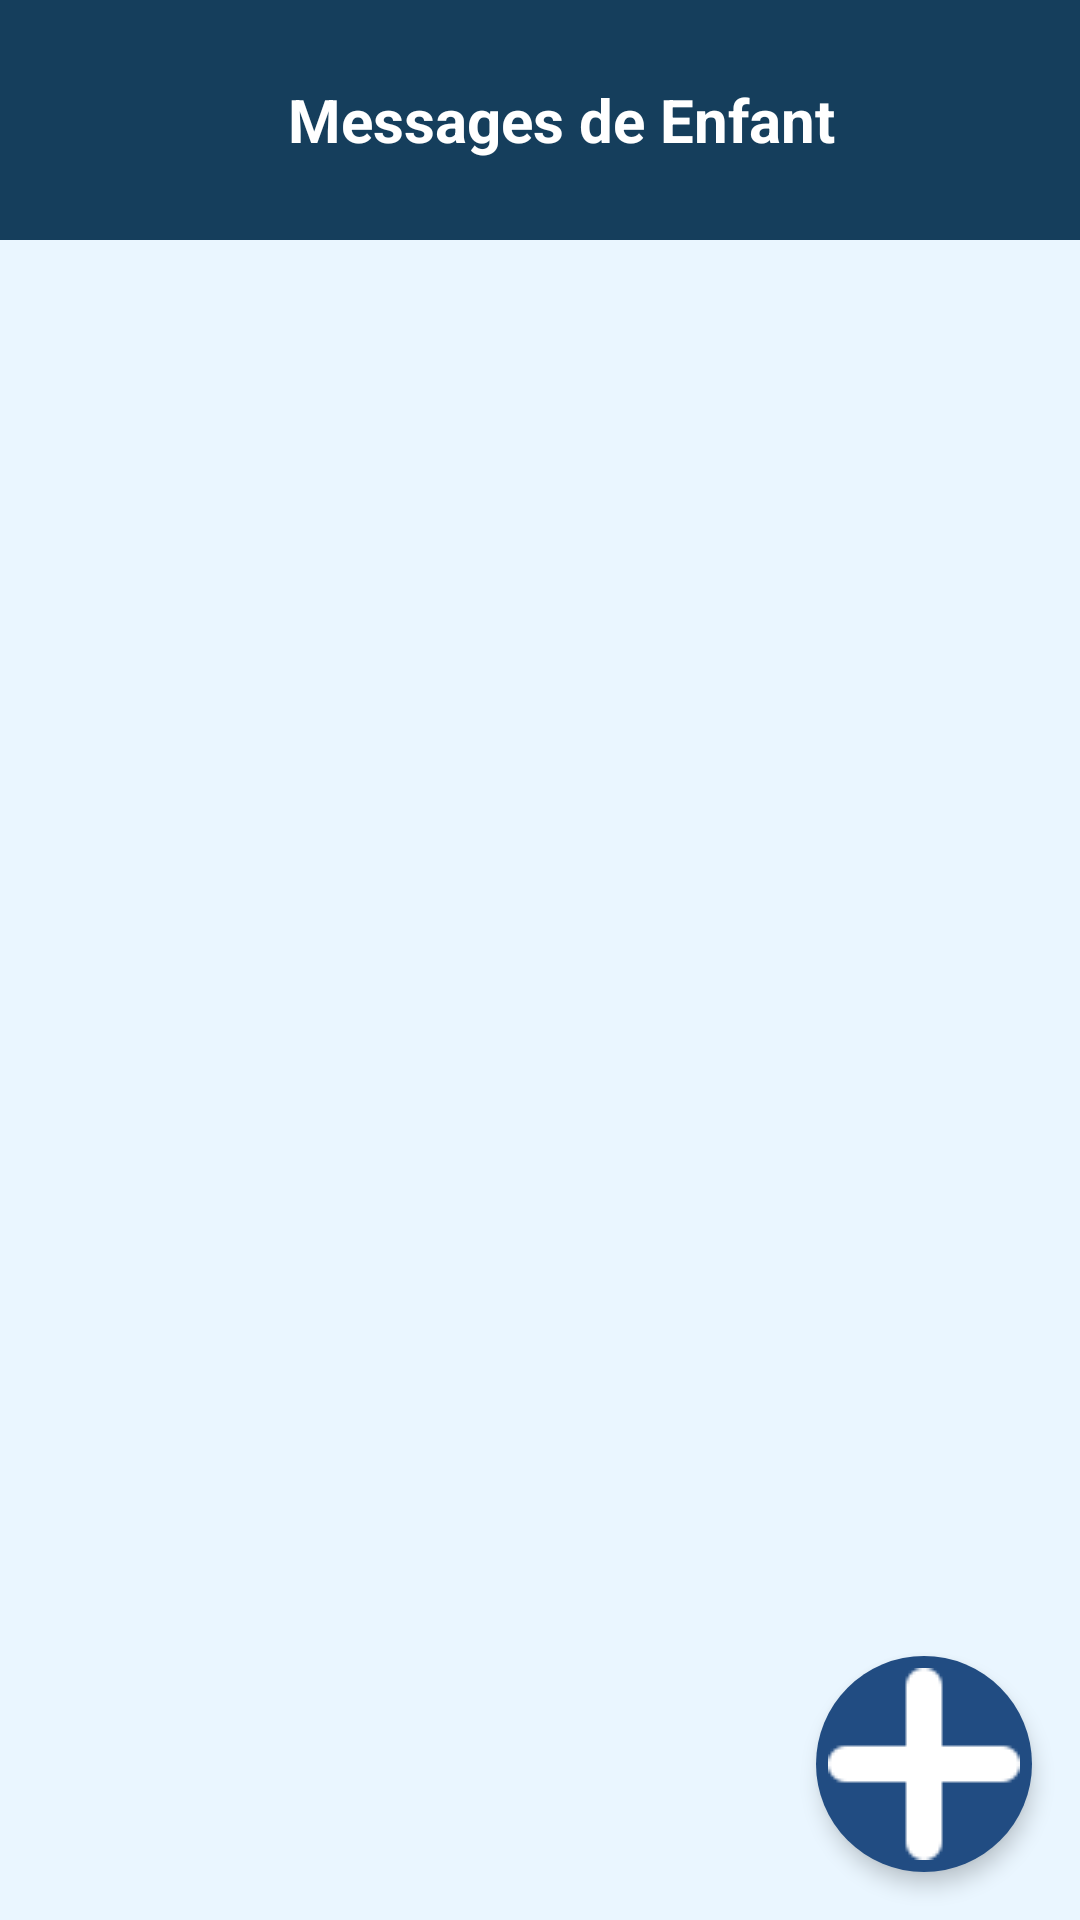

Icons on this 1080 x 1920 Android screen, each with the point to tap as point (x, y):
Ajouter un message: point (924, 1764)
